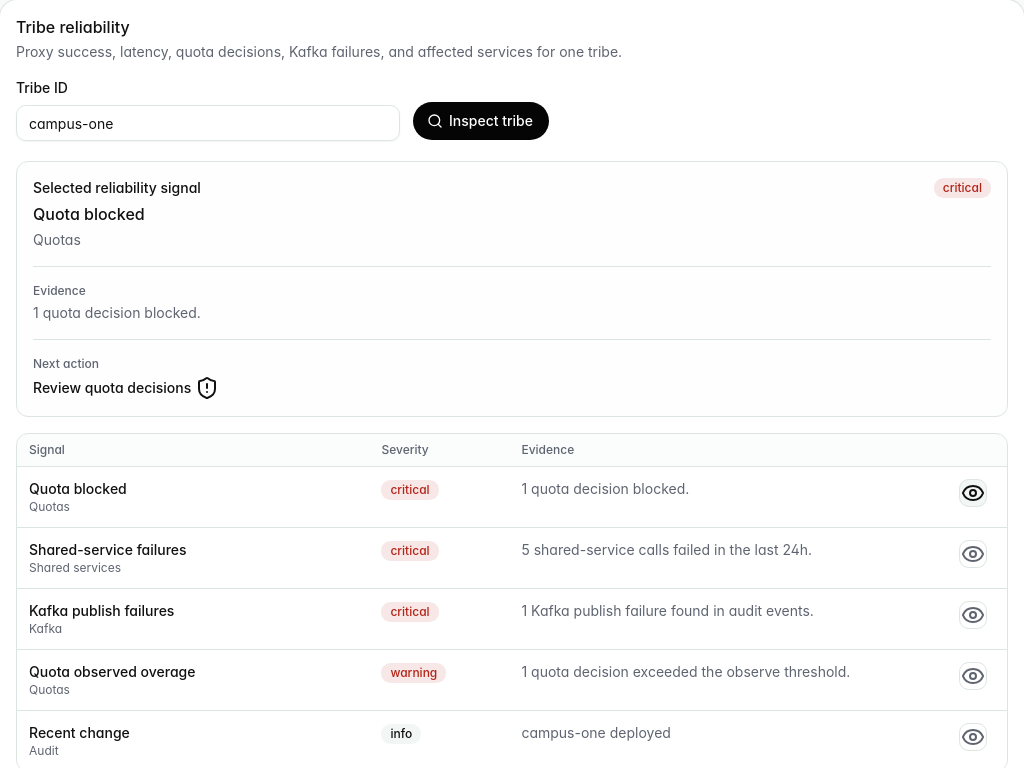
TribeReliabilityPanel › prioritizes reliability signals with one selected evidence detail
Expected: the element named "Selected reliability signal detail" shows "Quota blocked", top-left (33, 204), bottom-right (145, 224)
Expected: the element named "Selected reliability signal detail" shows "1 quota decision blocked.", top-left (33, 304), bottom-right (201, 321)
Click the button named "inspect reliability signal shared-service failures" at (973, 554), box top-left (959, 540), bottom-right (987, 568)
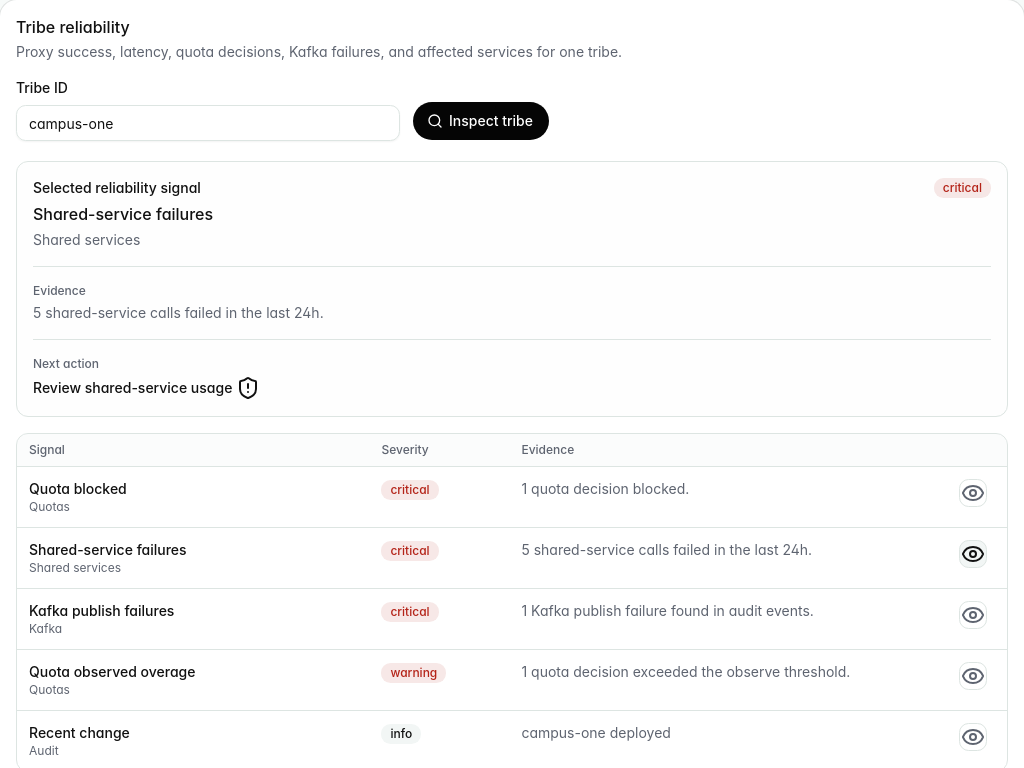
Expected: the element named "Selected reliability signal detail" shows "5 shared-service calls failed in the last 24h.", top-left (33, 304), bottom-right (324, 321)
